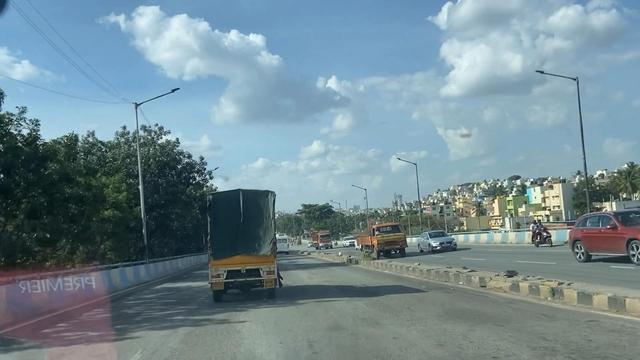HMV: (199, 191, 288, 301)
